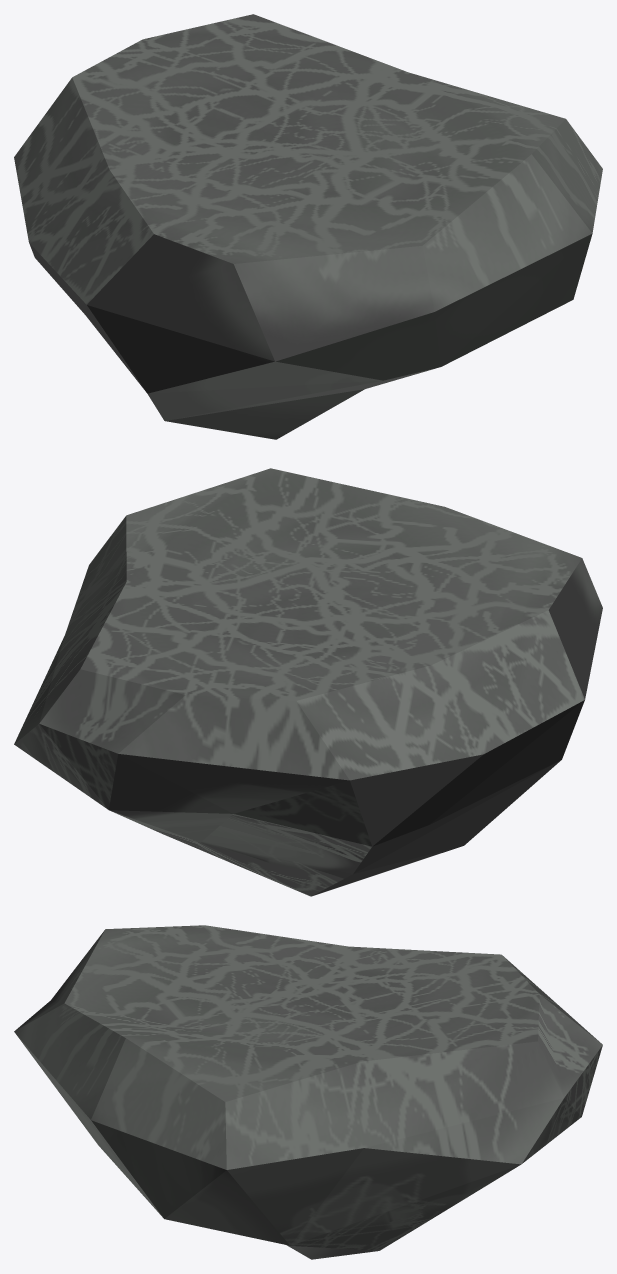
The model's file is kaya2.fbx.
The picture shows the model from 3 angles, top to bottom: view 1: azimuth 30°, elevation 25°; view 2: azimuth 150°, elevation 25°; view 3: azimuth 270°, elevation 25°; orthographic projection. The views are drawn at different scales.
Visible parts, largest first — view 1: Icosphere.002; view 2: Icosphere.002; view 3: Icosphere.002.
Part boxes in pixels (x1,y1,x2,y2): Icosphere.002: (14, 14, 602, 439); Icosphere.002: (14, 468, 602, 896); Icosphere.002: (14, 925, 602, 1259).
Bounding box in the file's own units: 4.69 × 2.86 × 5.36.
Materials: 1 (1 with a texture image).
